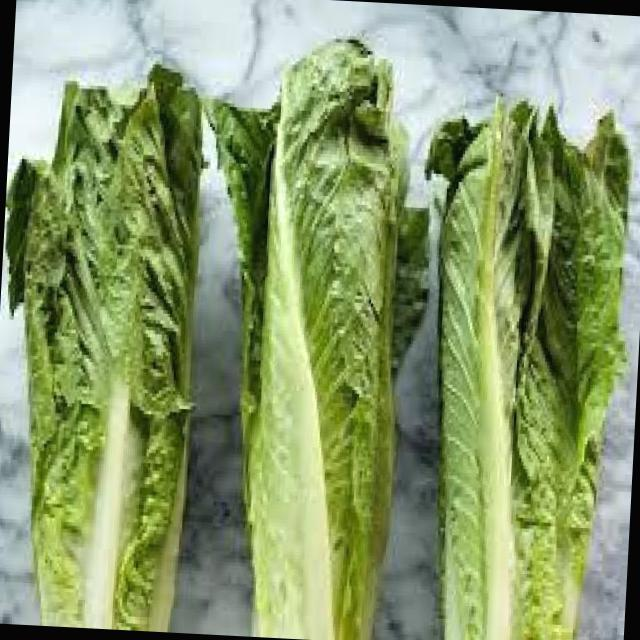Lettuce-Ready-to-Harvest: (206, 39, 428, 640), (7, 66, 202, 632), (428, 103, 629, 640)
